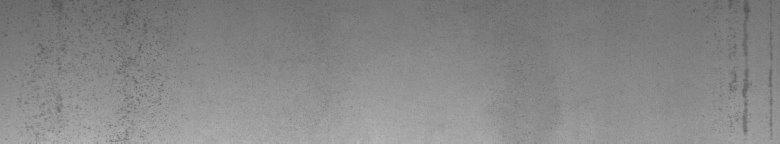ib: (17, 4, 164, 136)
